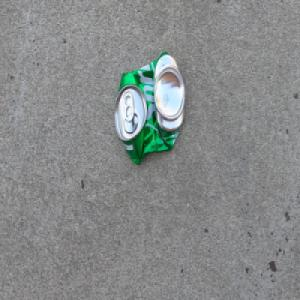SodaCan: (113, 49, 186, 166)
